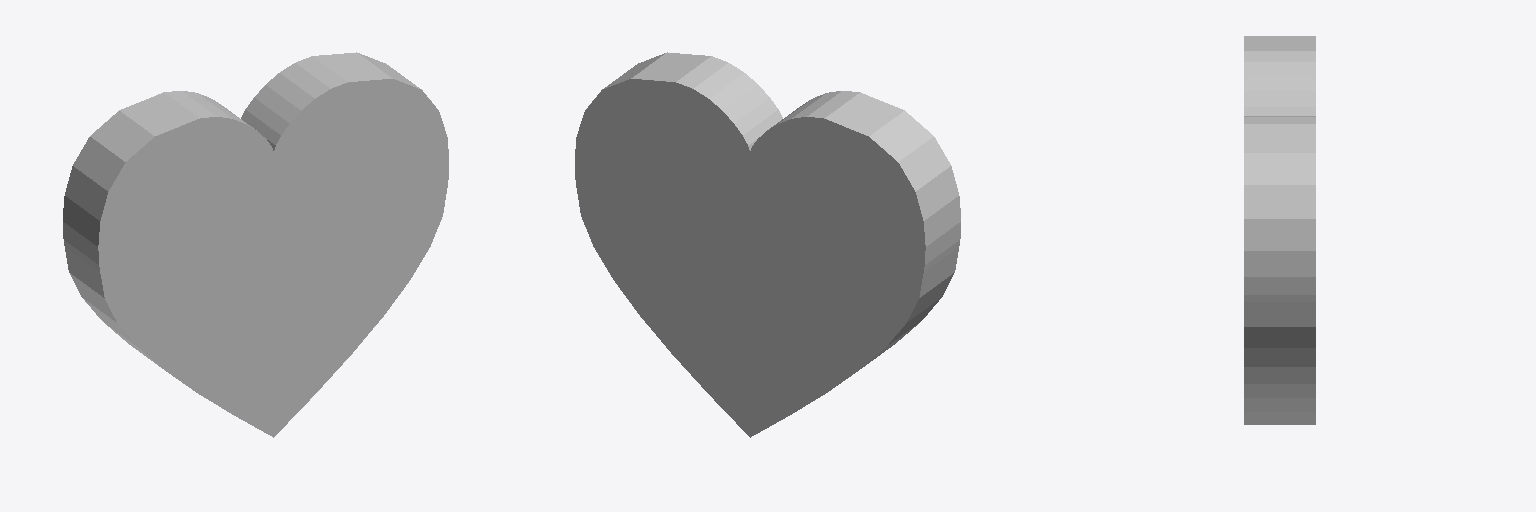
Rendered from heart.obj.
The picture shows the model from 3 angles: view 1: azimuth 30°, elevation 25°; view 2: azimuth 150°, elevation 25°; view 3: azimuth 270°, elevation 25°; orthographic projection.
Parts seen in each view (by area): view 1: obj_0; view 2: obj_0; view 3: obj_0.
Boxes of the visible parts, x1=… form: obj_0: x1=63, y1=52, x2=448, y2=437; obj_0: x1=575, y1=52, x2=960, y2=437; obj_0: x1=1244, y1=36, x2=1315, y2=424.
Size of the model in its own units: 28.33 by 26 by 5.